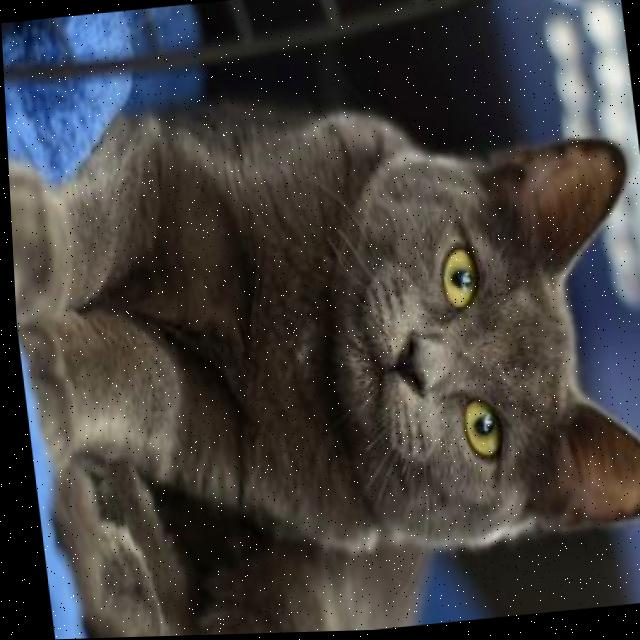Russian Blue: (3, 53, 640, 640)
